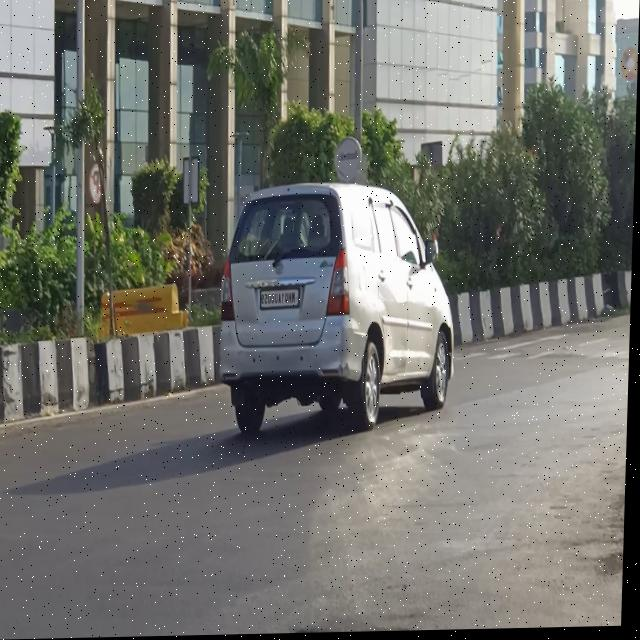plate: (259, 287, 303, 314)
